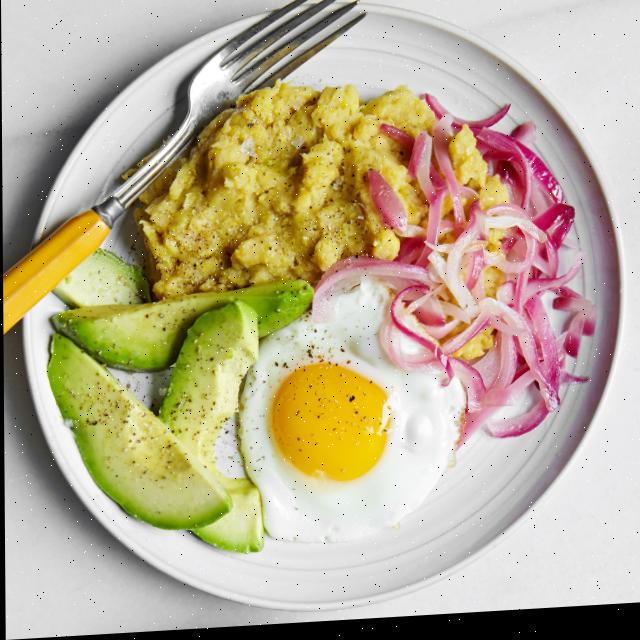Egg: (237, 283, 464, 547)
